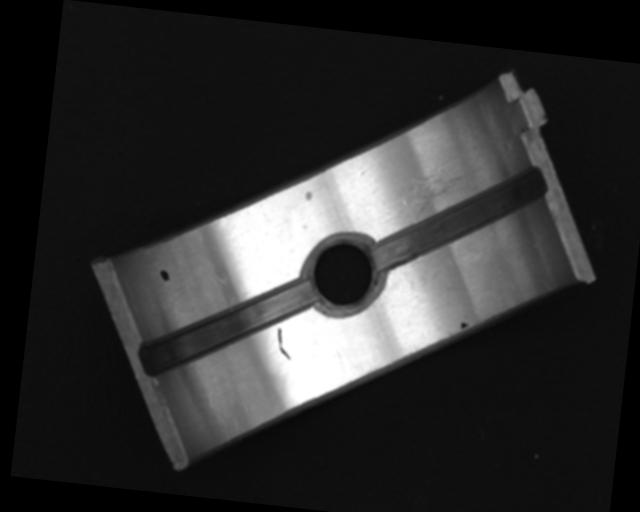blot: (157, 268, 171, 283), (458, 320, 469, 331)
bruise: (303, 190, 313, 204)
gap: (370, 151, 546, 288), (144, 261, 313, 389)
hole: (302, 232, 387, 320)
nick: (273, 326, 293, 360)
scratch: (400, 156, 483, 230)
